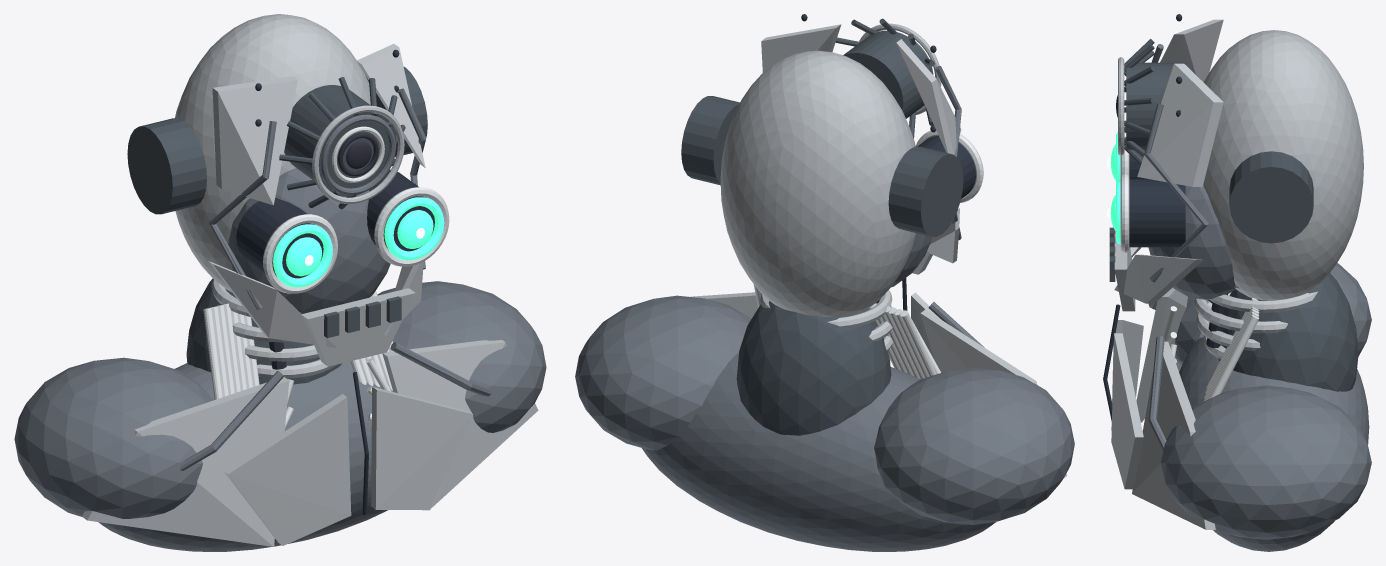
The model's file is echo_exe.glb.
The picture shows the model from 3 angles, left to right: view 1: azimuth 30°, elevation 25°; view 2: azimuth 150°, elevation 25°; view 3: azimuth 270°, elevation 25°; orthographic projection. The views are drawn at different scales.
Visible parts, largest first — view 1: TORSO_gunmetal, TORSO_brushed_silver, HEAD_brushed_silver, HEAD_dark_steel, HEAD_polished_silver, HEAD_gunmetal, HEAD_green, TORSO_bright_steel, HEAD_black, HEAD_bright_steel, TORSO_dark_steel, HEAD_black_glass (+1 smaller); view 2: TORSO_gunmetal, HEAD_brushed_silver, TORSO_dark_steel, HEAD_dark_steel, TORSO_brushed_silver, HEAD_polished_silver, TORSO_bright_steel, HEAD_gunmetal, HEAD_black, HEAD_bright_steel; view 3: TORSO_gunmetal, HEAD_brushed_silver, TORSO_brushed_silver, HEAD_polished_silver, HEAD_dark_steel, TORSO_dark_steel, HEAD_gunmetal, HEAD_black, TORSO_bright_steel, HEAD_bright_steel, HEAD_green, TORSO_black.
Boxes of the visible parts, x1,y1,x2,y2 form: TORSO_gunmetal: (14, 281, 546, 551); TORSO_brushed_silver: (82, 279, 538, 546); HEAD_brushed_silver: (175, 14, 415, 366); HEAD_dark_steel: (127, 67, 427, 338); HEAD_polished_silver: (208, 44, 425, 347); HEAD_gunmetal: (209, 88, 426, 313); HEAD_green: (273, 197, 444, 287); TORSO_bright_steel: (203, 291, 393, 428); HEAD_black: (236, 49, 434, 278); HEAD_bright_steel: (263, 126, 449, 293); TORSO_dark_steel: (186, 278, 341, 384); HEAD_black_glass: (338, 133, 378, 176); TORSO_gunmetal: (575, 295, 1074, 551); HEAD_brushed_silver: (720, 23, 941, 317); TORSO_dark_steel: (736, 301, 891, 435); HEAD_dark_steel: (681, 18, 963, 236); TORSO_brushed_silver: (690, 290, 1067, 478); HEAD_polished_silver: (761, 24, 961, 263); TORSO_bright_steel: (753, 284, 941, 379); HEAD_gunmetal: (891, 42, 961, 287); HEAD_black: (801, 14, 975, 198); HEAD_bright_steel: (916, 130, 983, 202); TORSO_gunmetal: (1148, 263, 1371, 551); HEAD_brushed_silver: (1114, 30, 1363, 311); TORSO_brushed_silver: (1111, 285, 1317, 529); HEAD_polished_silver: (1114, 19, 1223, 303); HEAD_dark_steel: (1109, 39, 1313, 281); TORSO_dark_steel: (1218, 273, 1358, 391); HEAD_gunmetal: (1144, 44, 1235, 299); HEAD_black: (1129, 14, 1185, 247); TORSO_bright_steel: (1162, 298, 1259, 401); HEAD_bright_steel: (1120, 126, 1129, 252); HEAD_green: (1110, 132, 1120, 244); TORSO_black: (1103, 304, 1120, 421).
Size of the model in its own units: 2.04 by 1.99 by 1.02.
